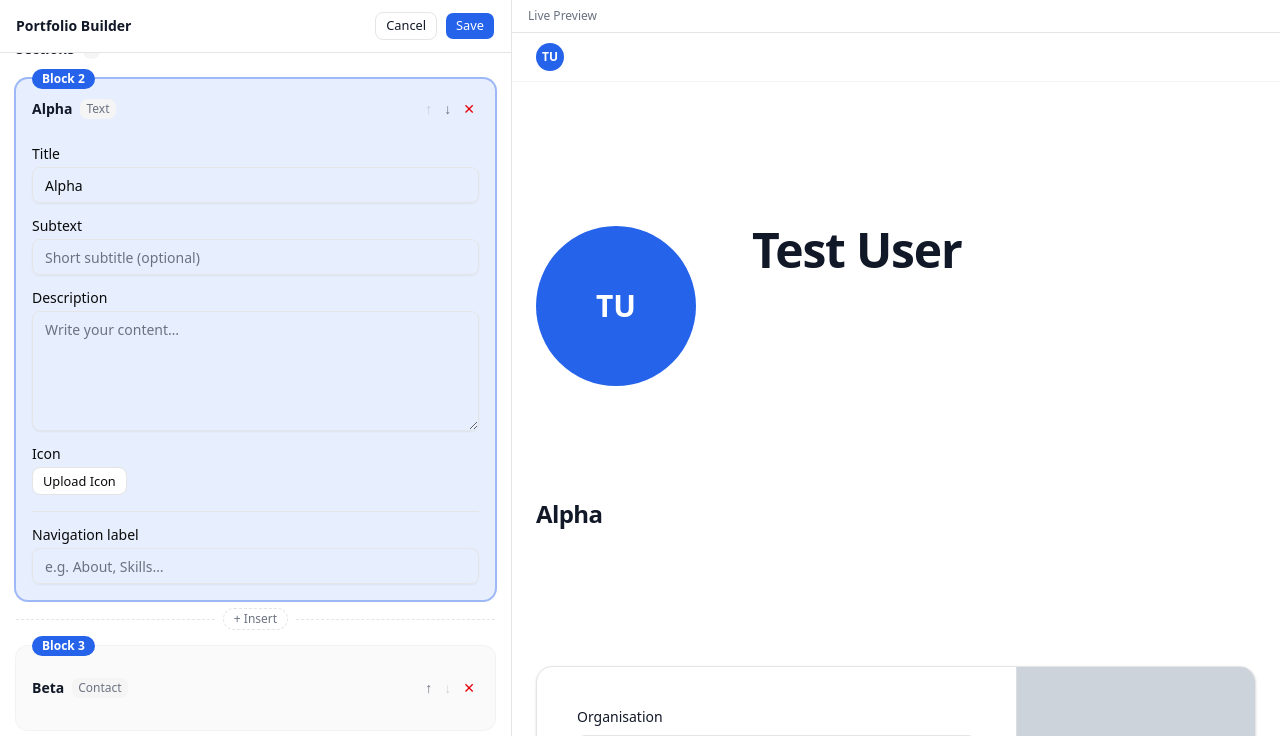
PortfolioBuilder — sections › collapses inactive sections and expands on click
(page scrolled)
Expected: the text box with placeholder "Write your content…" is shown, [32, 311, 479, 431]
Expected: the text "CONTACT_EMAIL" is not shown
Click the button with aria-label "Expand section" at (48, 688), box [32, 678, 413, 698]
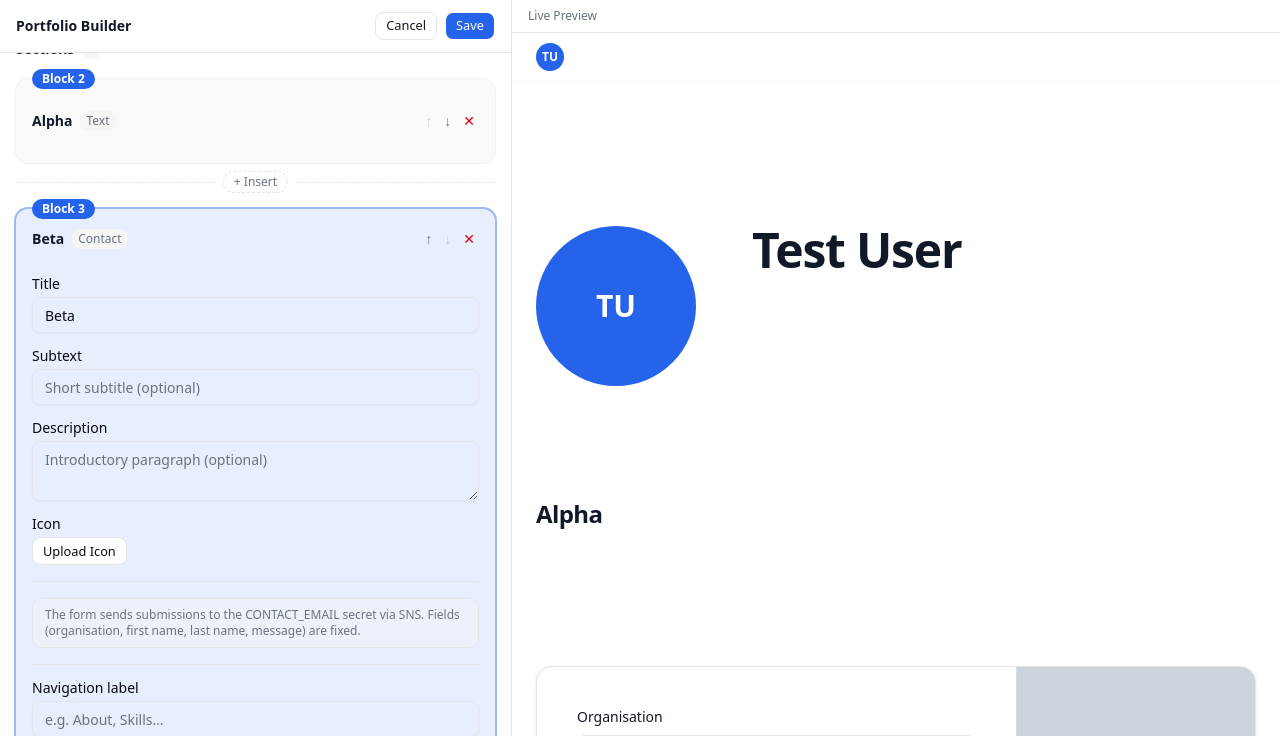
Expected: the field with placeholder "Write your content…" is not shown
Expected: the text "CONTACT_EMAIL" is shown, [45, 606, 460, 639]
